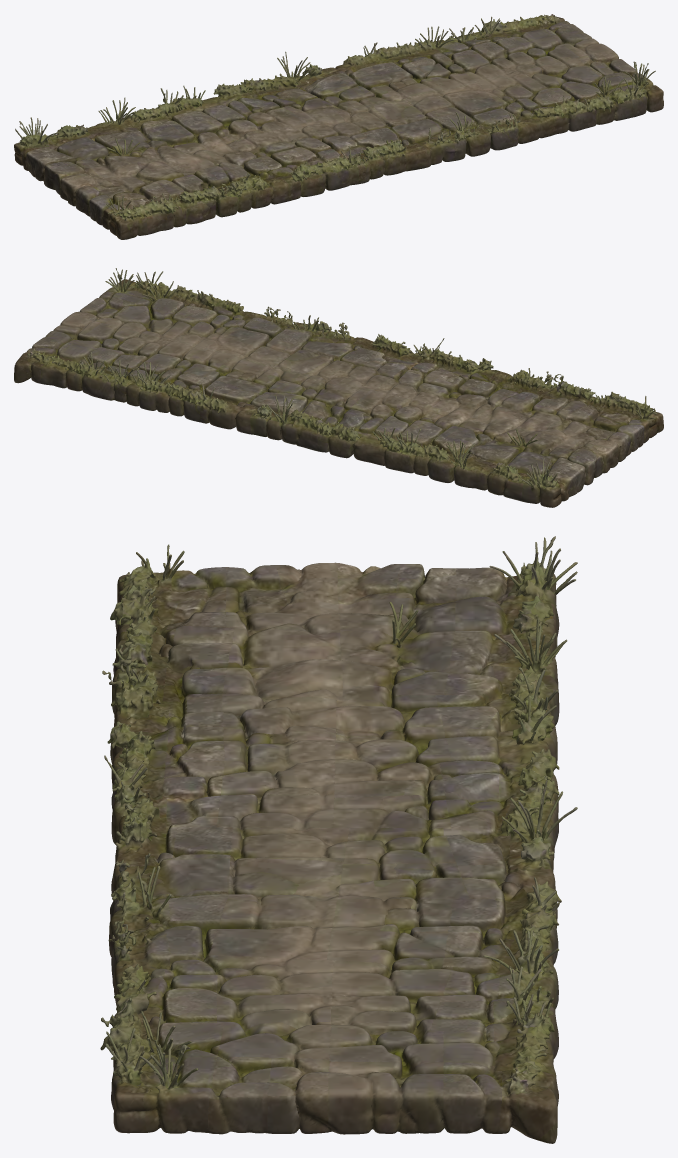
File: Meshy_AI_road_straight_stone_0823031805_image-to-3d-texture.glb
3 renders of one model, top to bottom at view 1: azimuth 30°, elevation 25°; view 2: azimuth 150°, elevation 25°; view 3: azimuth 270°, elevation 25°, orthographic. The views are drawn at different scales.
Parts seen in each view (by area): view 1: mesh_node; view 2: mesh_node; view 3: mesh_node.
Part boxes in pixels (bbox=[...]): mesh_node: bbox=[14, 14, 663, 239]; mesh_node: bbox=[14, 268, 663, 507]; mesh_node: bbox=[100, 536, 577, 1143].
Size of the model in its own units: 1.9 by 0.1674 by 0.7194.
Materials: 1 (1 with a texture image).
